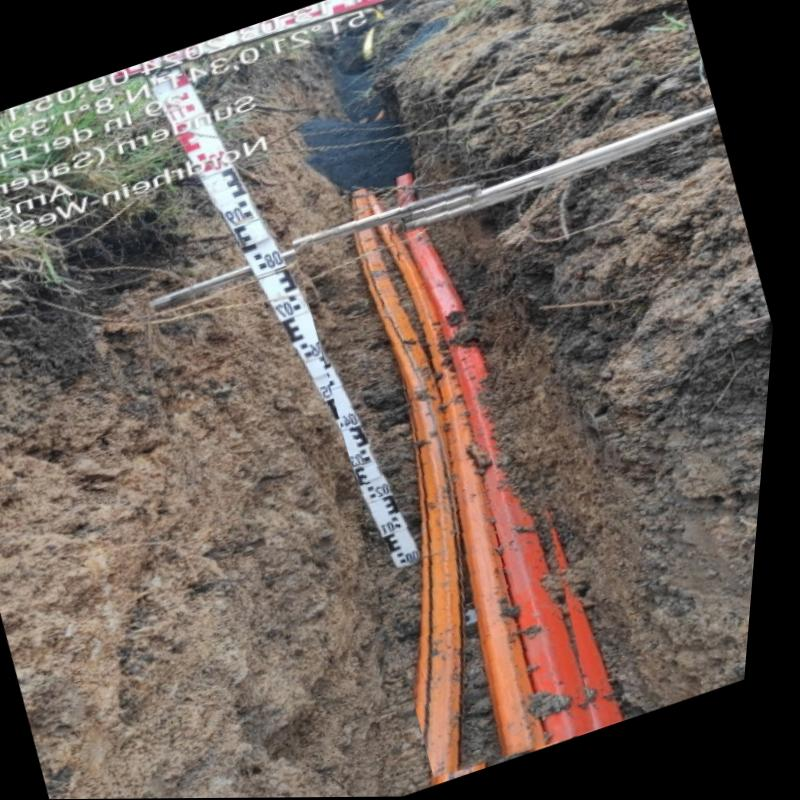Orang-Speednetrohrchen: (356, 188, 613, 779)
